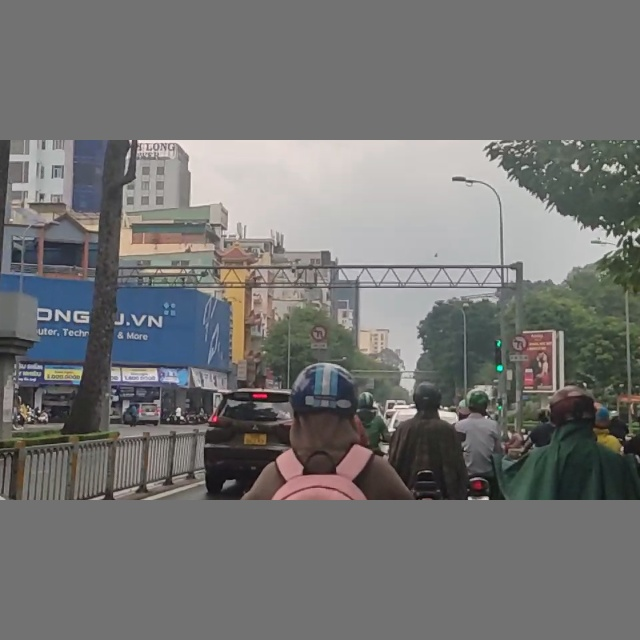P.124c: (513, 335, 529, 351), (311, 326, 327, 341)
